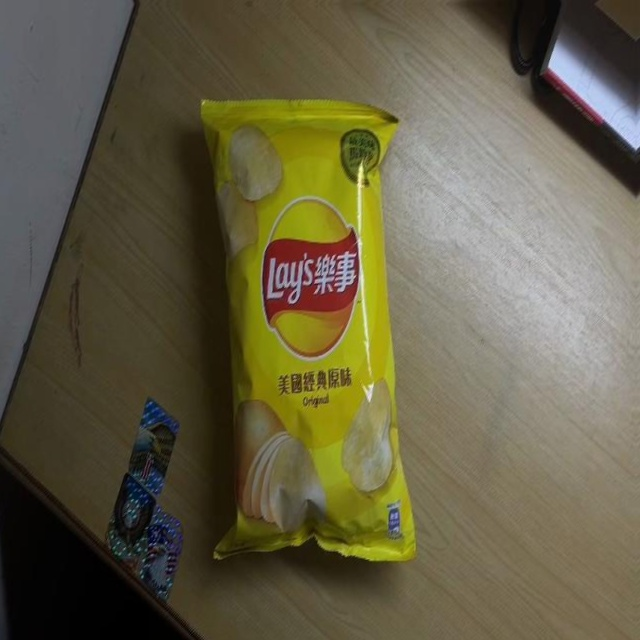Lay-s-original: (202, 94, 422, 564)
